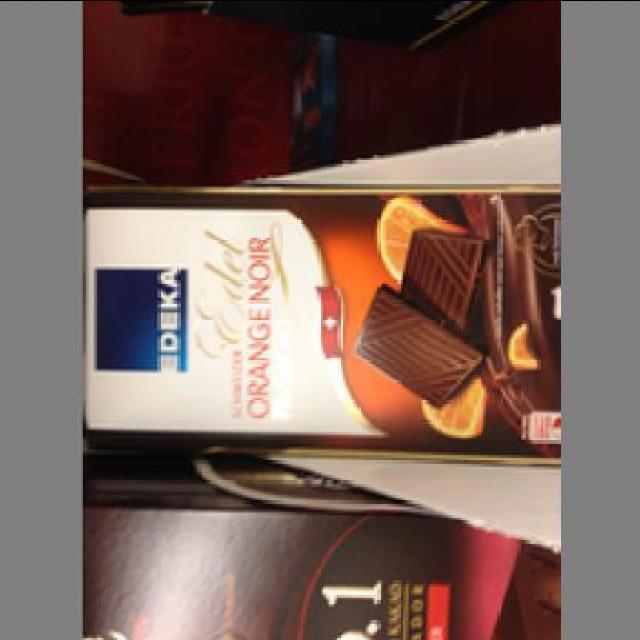Chocolate bar: (83, 186, 557, 457)
